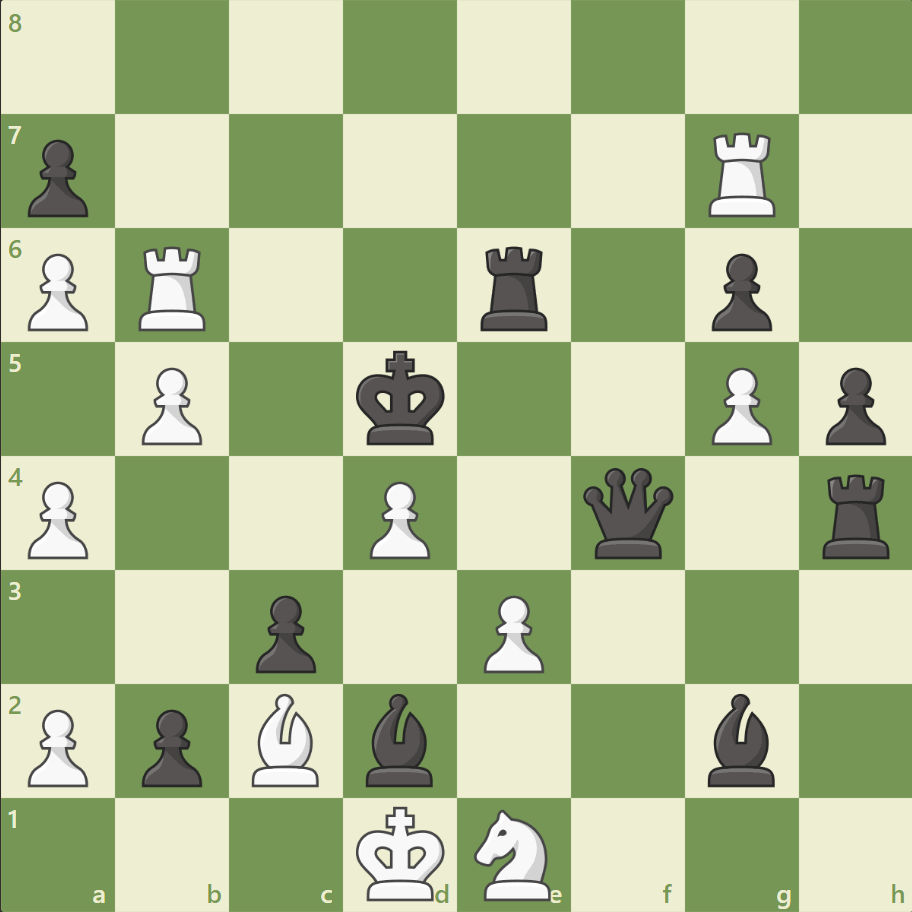B: (244, 687, 328, 790)
K: (351, 798, 451, 906)
N: (465, 802, 562, 904)
P: (20, 246, 95, 337), (133, 359, 208, 450), (701, 359, 776, 450), (20, 473, 95, 564), (474, 586, 549, 677), (20, 700, 95, 791), (361, 473, 435, 564)
R: (700, 125, 783, 222), (133, 239, 215, 336)
b: (358, 687, 442, 790), (698, 687, 782, 790)
k: (351, 344, 451, 452)
p: (20, 132, 95, 223), (701, 246, 776, 337), (247, 586, 322, 677), (133, 700, 208, 791), (815, 359, 889, 450)
q: (578, 463, 677, 562)
r: (473, 239, 556, 336), (814, 466, 897, 563)
